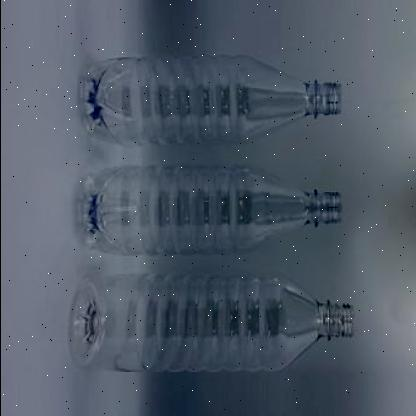Plastic Bottle: (69, 278, 350, 372), (72, 53, 348, 147), (77, 167, 345, 254)
